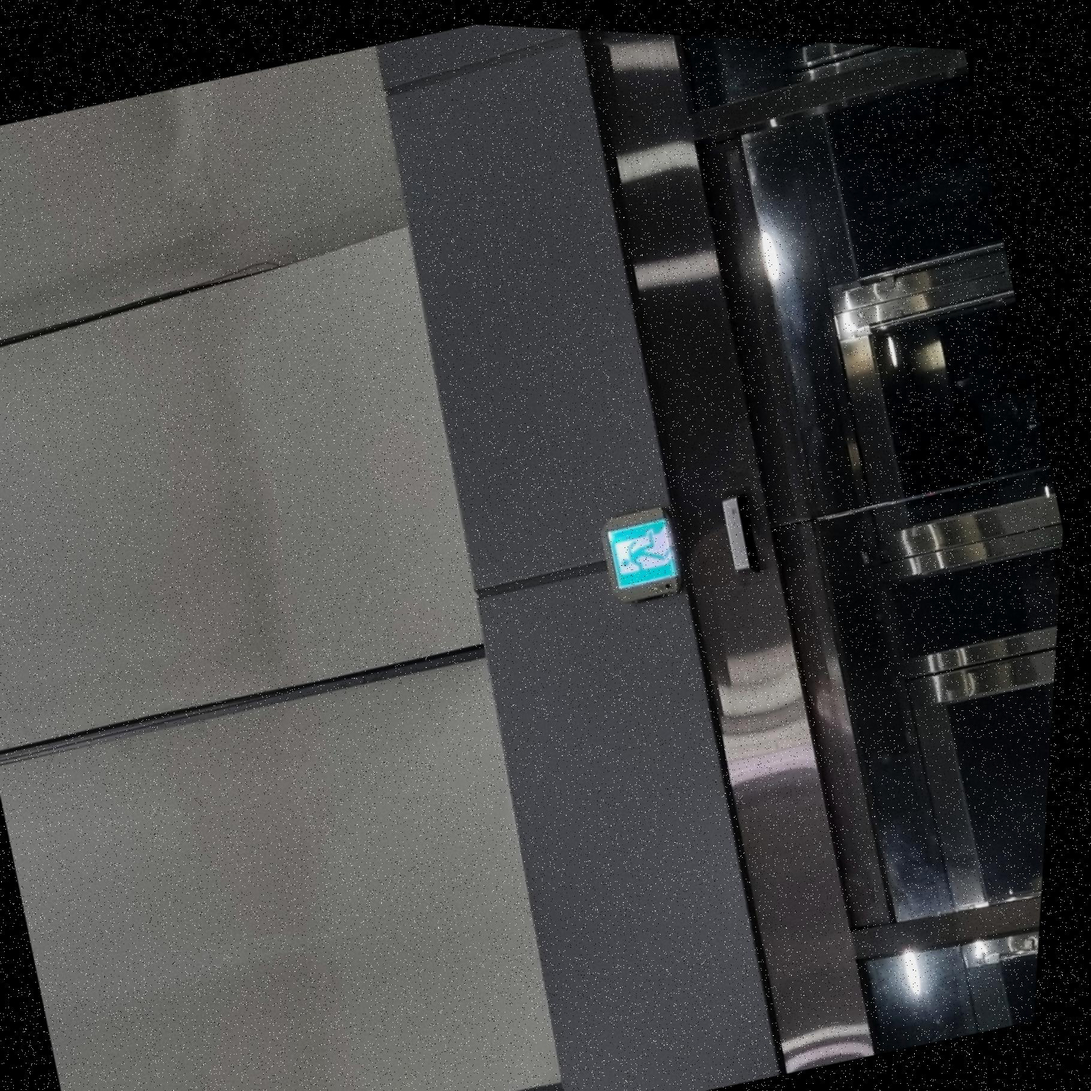emergency_exit: (602, 510, 683, 601)
